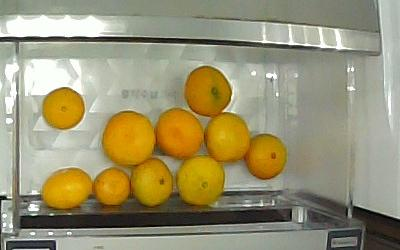tangerine: (100, 110, 155, 168), (155, 107, 204, 158), (186, 65, 233, 117), (178, 157, 226, 207), (205, 114, 250, 164), (41, 167, 93, 209), (131, 158, 173, 206), (40, 87, 86, 130), (247, 133, 287, 179), (91, 167, 130, 206)
